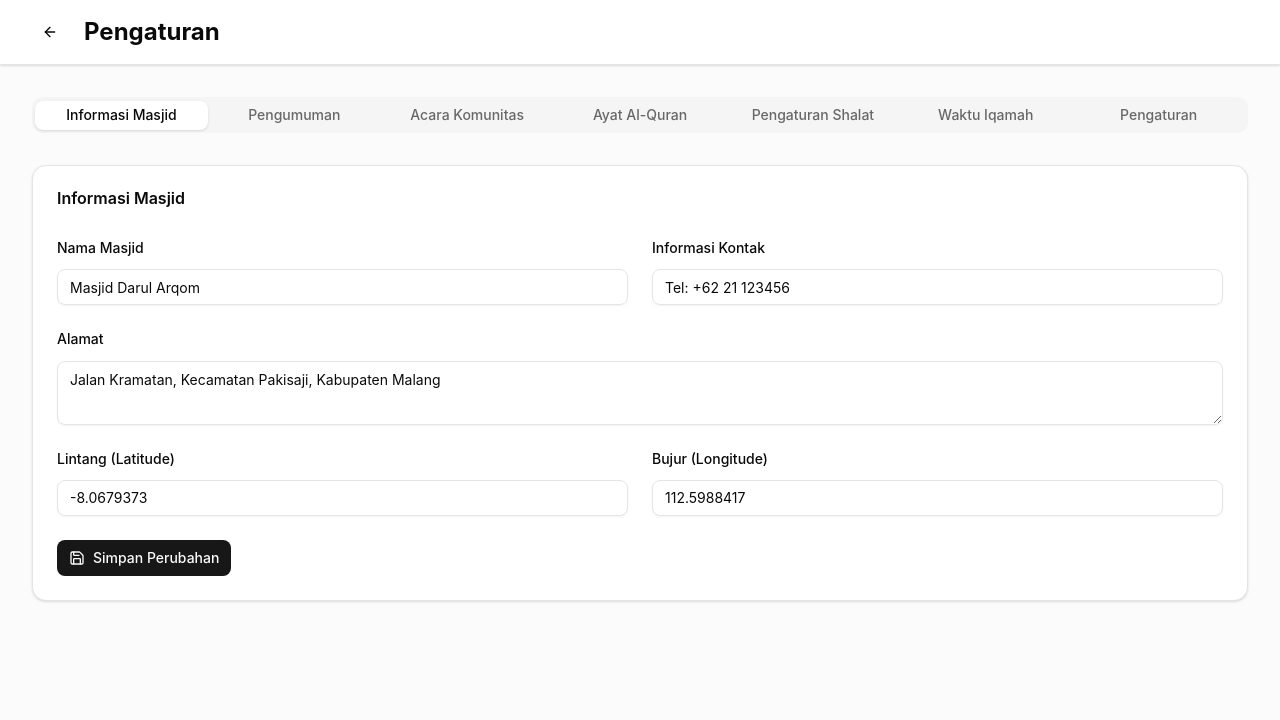
AdminPanel › saves mosque information through context persistence
Replace the text in the field labelled "Nama Masjid" with "Masjid Browser": [342, 287] box [57,269,628,305]
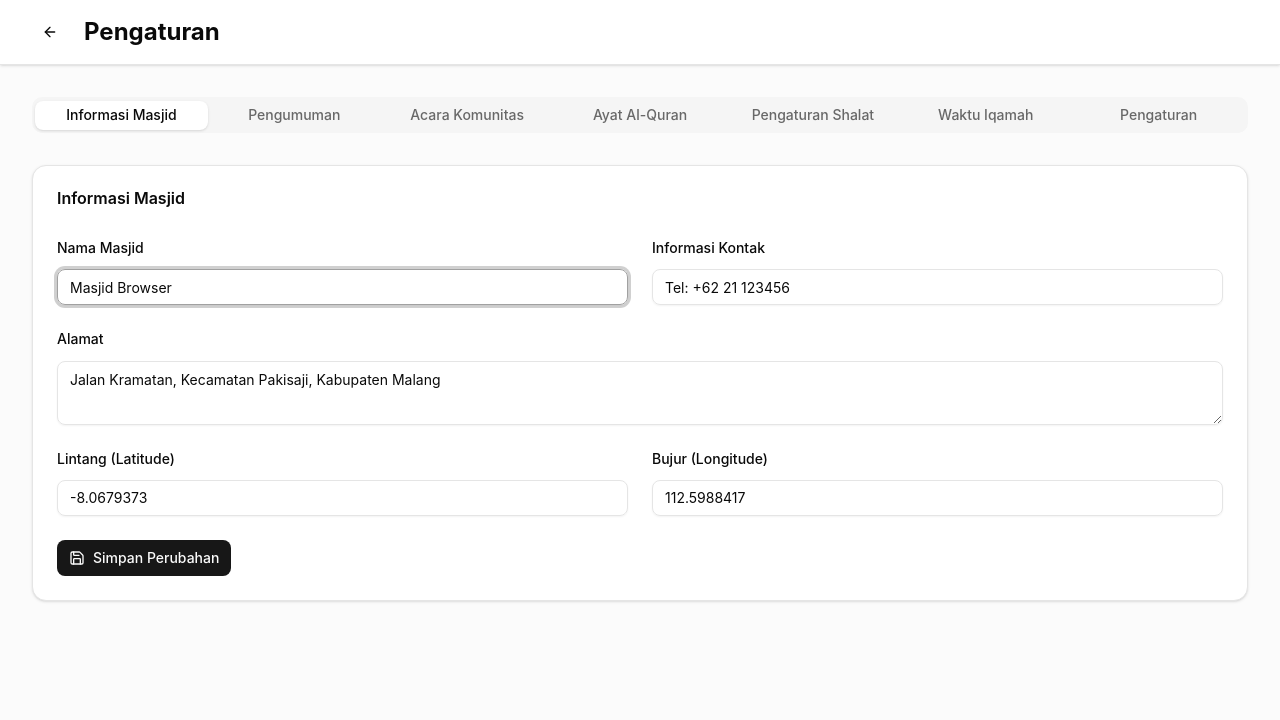
Click the button "Simpan Perubahan": [144, 558] box [57,540,231,576]
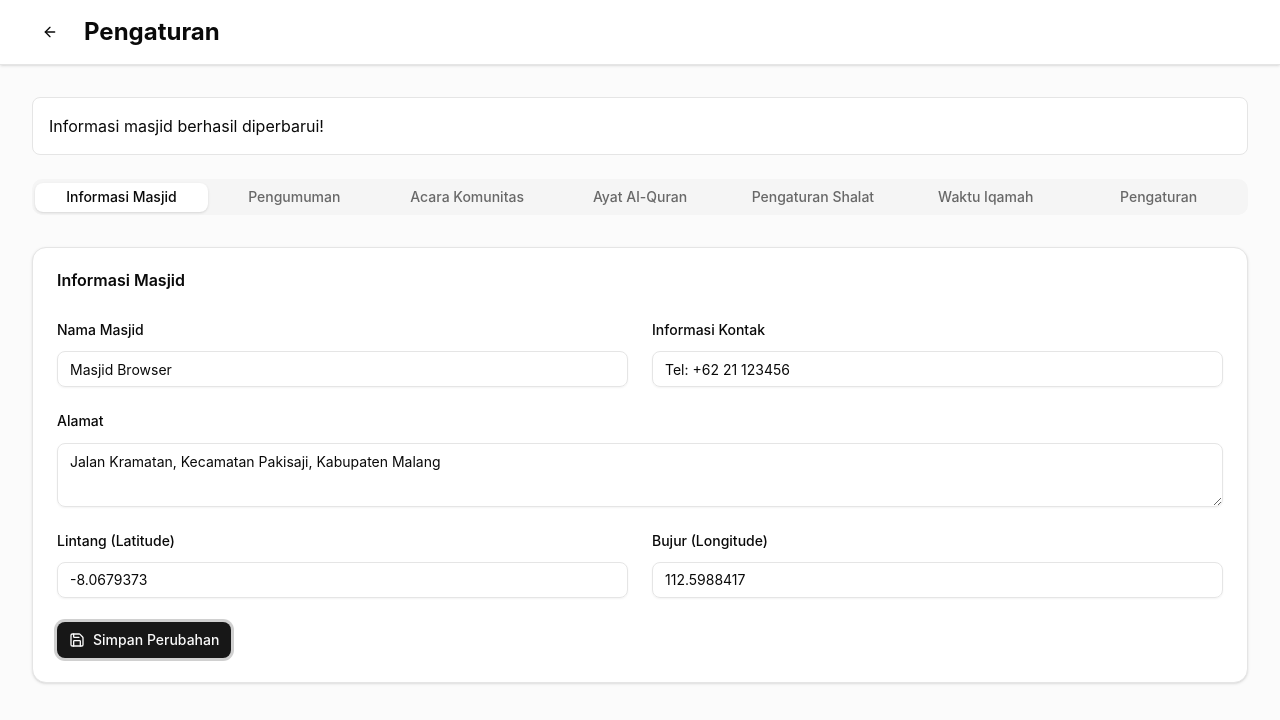
Expected: the message shows "Informasi masjid berhasil diperbarui", [49,116,324,136]
